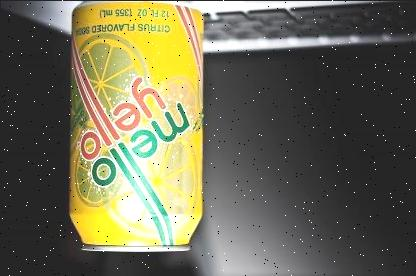Can: (67, 0, 205, 252)
